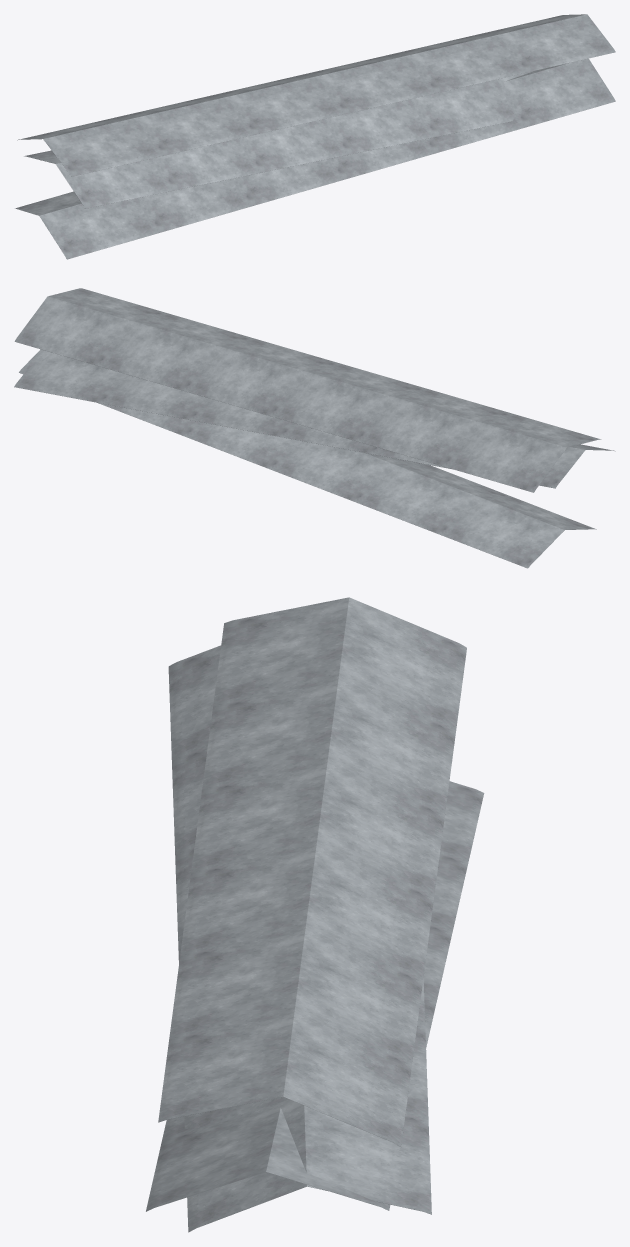
The model's file is COB-CUM-003_anim.glb.
3 views of the same model, one above another, from view 1: azimuth 30°, elevation 25°; view 2: azimuth 150°, elevation 25°; view 3: azimuth 270°, elevation 25° (orthographic). The views are drawn at different scales.
Visible parts, largest first — view 1: COB-CUM-003_anim2, COB-CUM-003_anim0, COB-CUM-003_anim1; view 2: COB-CUM-003_anim2, COB-CUM-003_anim0, COB-CUM-003_anim1; view 3: COB-CUM-003_anim2, COB-CUM-003_anim1, COB-CUM-003_anim0.
Part boxes in pixels (x1,y1,x2,y2): COB-CUM-003_anim2: [17, 14, 615, 176]; COB-CUM-003_anim0: [15, 58, 615, 259]; COB-CUM-003_anim1: [24, 71, 532, 208]; COB-CUM-003_anim2: [14, 288, 601, 492]; COB-CUM-003_anim0: [19, 349, 596, 568]; COB-CUM-003_anim1: [14, 353, 615, 488]; COB-CUM-003_anim2: [158, 597, 466, 1146]; COB-CUM-003_anim1: [168, 645, 431, 1232]; COB-CUM-003_anim0: [146, 781, 484, 1211].
Bounding box in the file's own units: 3.04 × 0.5854 × 0.8316.
1 material, 1 textured.
